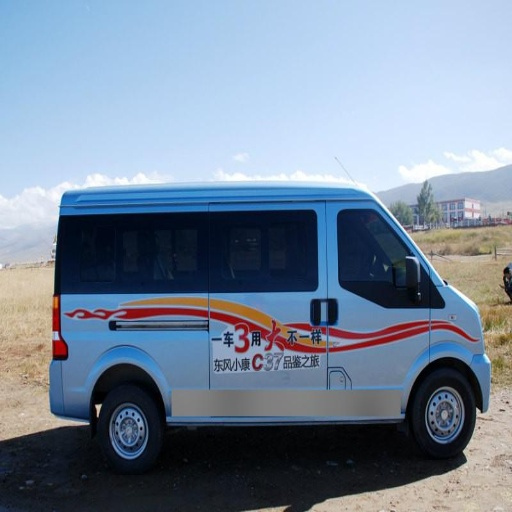back_right_door: (270, 202, 324, 279)
trunk: (54, 294, 388, 421)
